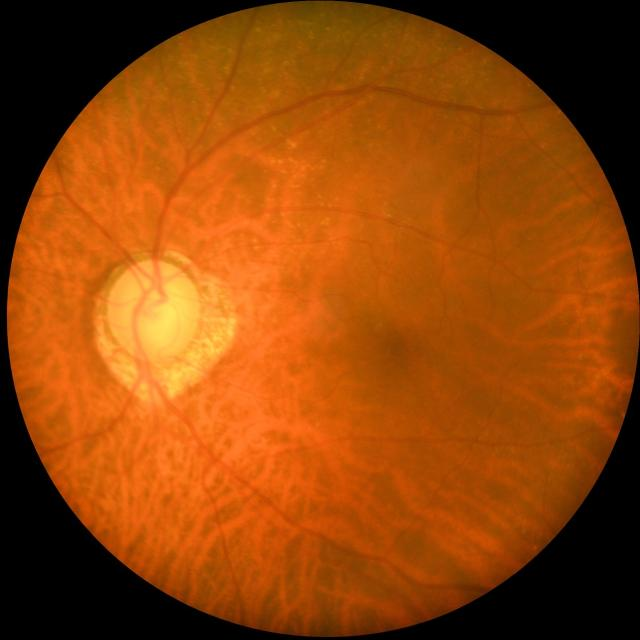OC: (129, 286, 177, 343)
OD: (106, 258, 200, 359)
